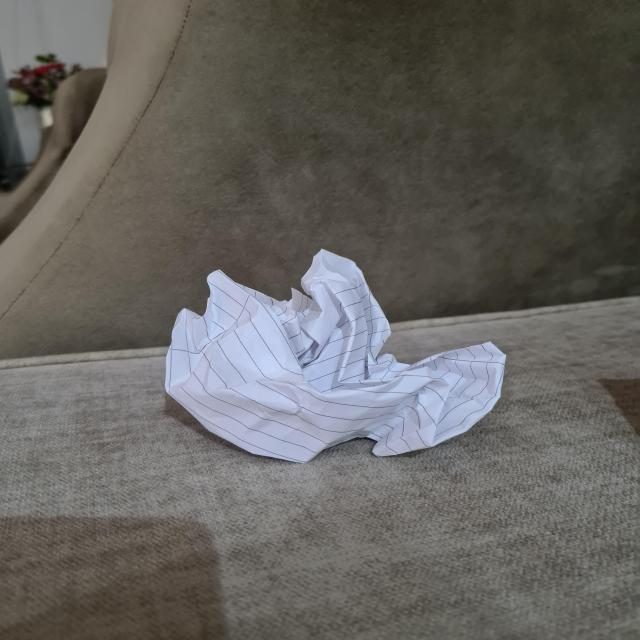trash: (148, 252, 508, 464)
